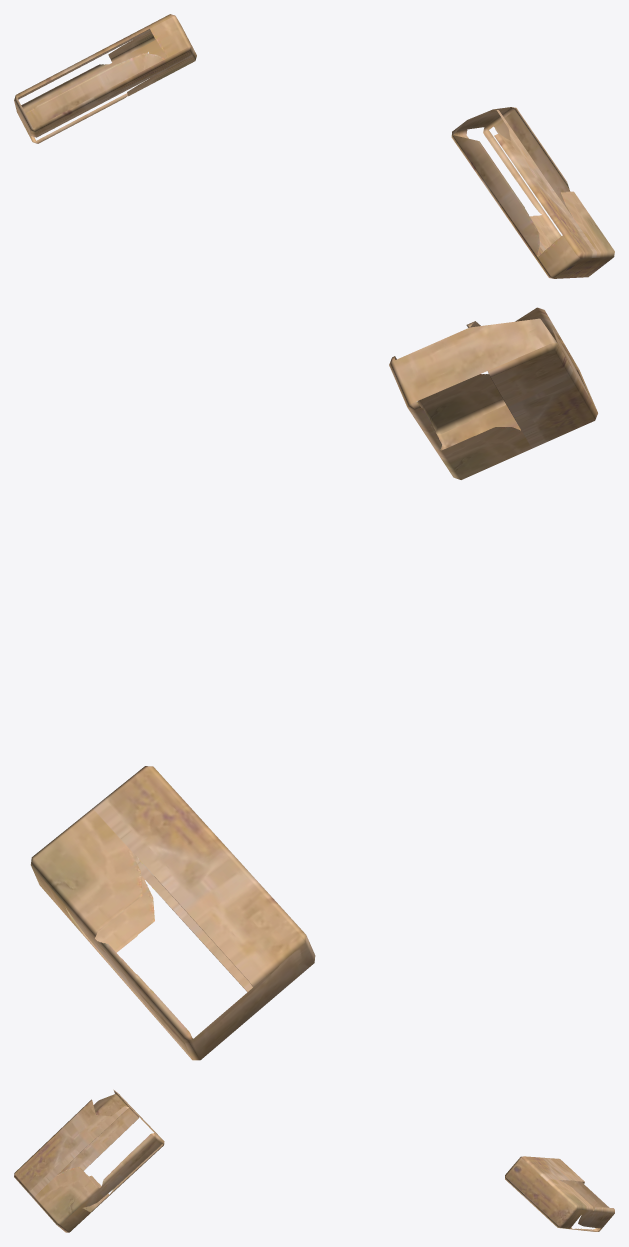
3 views of the same model, one above another, from view 1: azimuth 30°, elevation 25°; view 2: azimuth 150°, elevation 25°; view 3: azimuth 270°, elevation 25° (orthographic). The views are drawn at different scales.
Visible parts, largest first — view 1: SM_Magic_Institute_Unique_Bricks_01v3_LOD0; view 2: SM_Magic_Institute_Unique_Bricks_01v3_LOD0; view 3: SM_Magic_Institute_Unique_Bricks_01v3_LOD0.
Boxes of the visible parts, left/top/right/bottom form: SM_Magic_Institute_Unique_Bricks_01v3_LOD0: left=14, top=14, right=614, bottom=278; SM_Magic_Institute_Unique_Bricks_01v3_LOD0: left=30, top=307, right=597, bottom=1060; SM_Magic_Institute_Unique_Bricks_01v3_LOD0: left=14, top=1089, right=614, bottom=1232.
Bounding box in the file's own units: 1.1 × 1.01 × 3.1.
